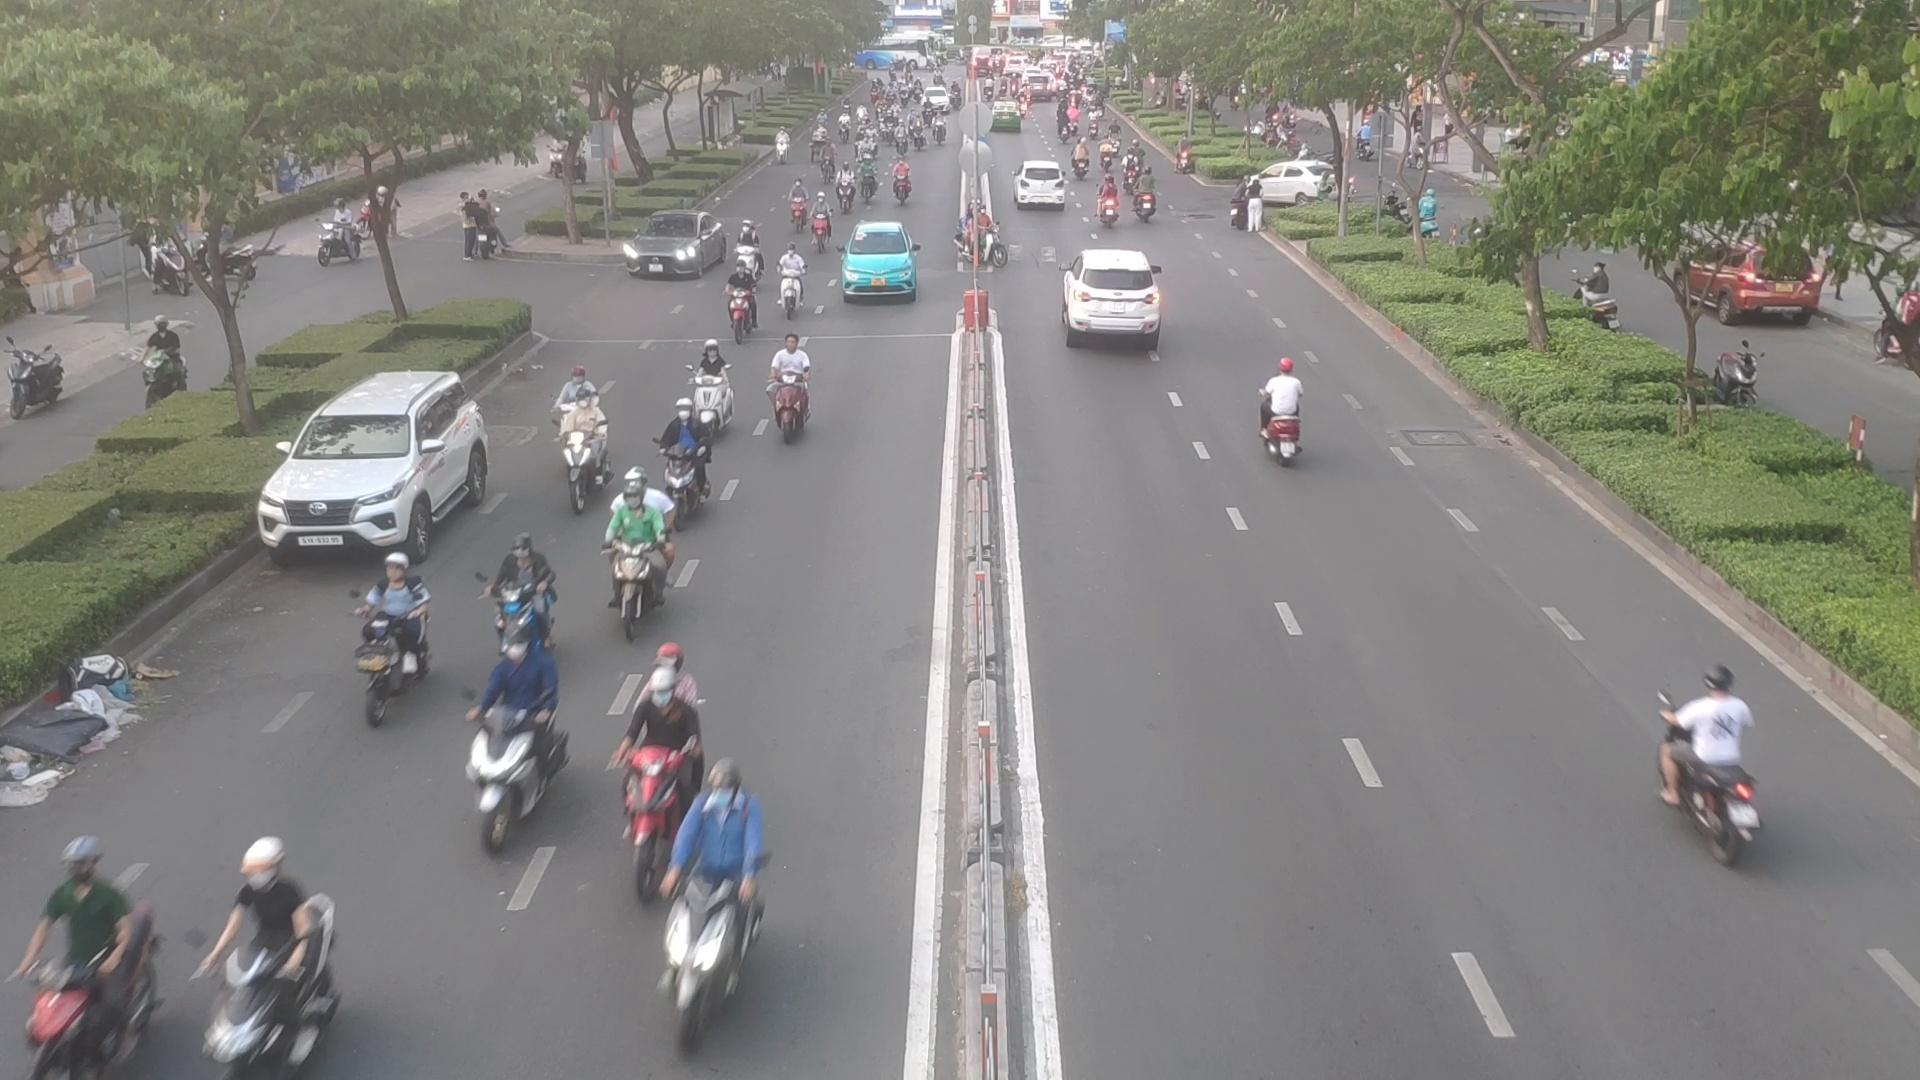car: (260, 372, 497, 566), (1062, 251, 1163, 345), (622, 214, 735, 282), (843, 228, 924, 298), (1015, 160, 1069, 210)
motorbike: (1, 831, 150, 1080), (633, 778, 767, 1040), (203, 831, 320, 1080), (455, 669, 582, 847), (601, 671, 691, 877), (1684, 661, 1764, 866), (356, 537, 436, 727), (611, 460, 679, 644), (562, 394, 626, 506), (491, 541, 555, 644), (1251, 359, 1311, 462), (764, 345, 820, 448), (662, 407, 717, 493), (692, 344, 731, 429), (769, 243, 816, 309), (720, 266, 758, 338), (967, 219, 1014, 276), (808, 191, 840, 256), (559, 371, 593, 430), (735, 225, 770, 278), (833, 160, 860, 222), (891, 150, 918, 210), (1091, 175, 1120, 224), (858, 156, 881, 207), (785, 182, 808, 228), (1134, 170, 1158, 215), (816, 144, 837, 187), (1122, 149, 1139, 190)
